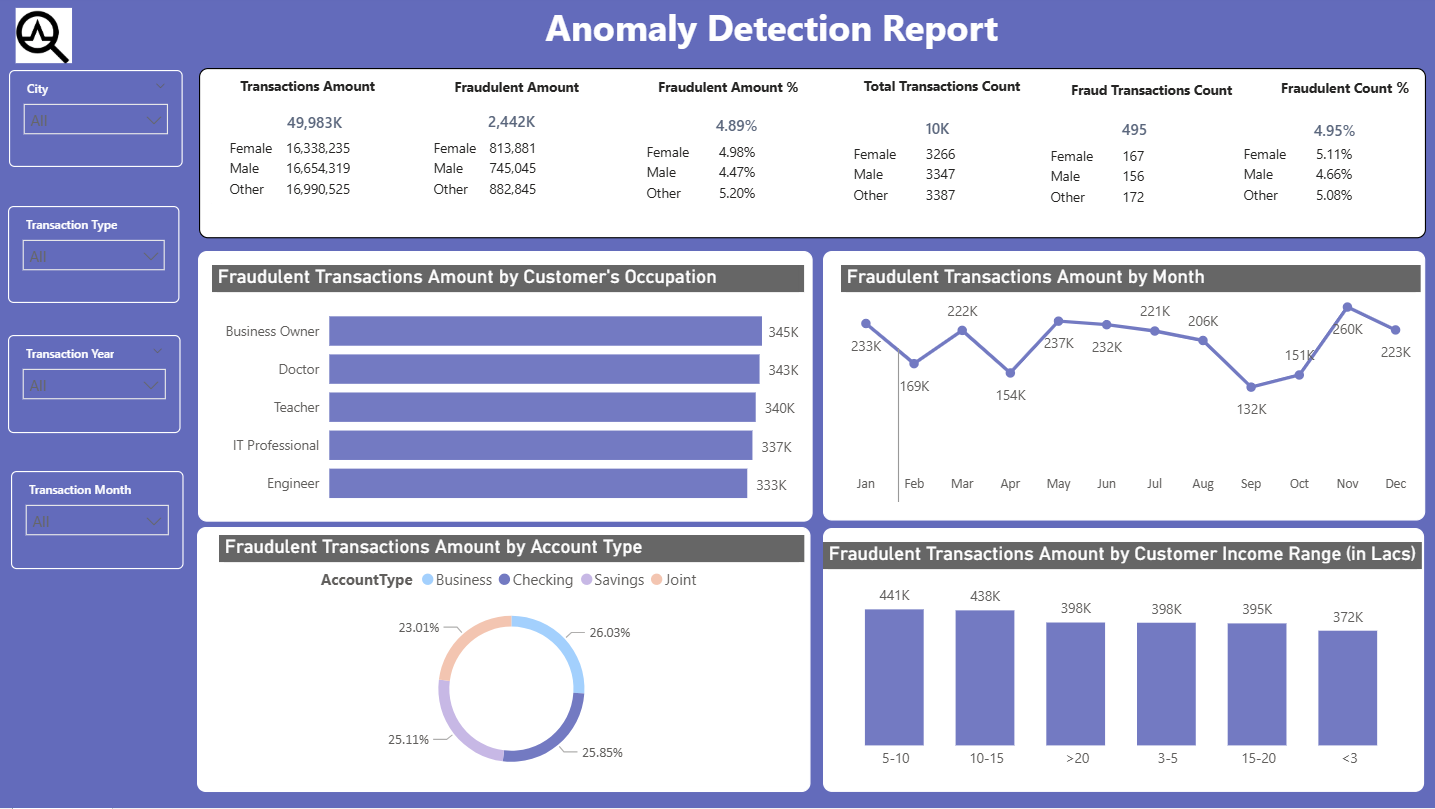

The page's visual inventory and layout, read from the dashboard file:
{"tool":"powerbi","page":{"name":"Dashboard","canvas":[1280,720],"ordinal":0},"visuals":[{"type":"shape","box":[181.5,63.9,1087.5,150.8],"z":0},{"type":"tableEx","fields":{"Values":["Banking Transactions  Data.CustomerGender","Banking Transactions  Data.Fraudulent Transactions Count"]},"box":[925.5,99,168.1,106.9],"z":1000},{"type":"tableEx","fields":{"Values":["Banking Transactions  Data.CustomerGender","Banking Transactions  Data.Total Transactions Count"]},"box":[751.1,97.4,171.3,106.9],"z":2000},{"type":"tableEx","fields":{"Values":["Banking Transactions  Data.CustomerGender","Banking Transactions  Data.Fraudlent Transactions Amount"]},"box":[378.3,92,168.7,108.6],"z":3000},{"type":"tableEx","fields":{"Values":["Banking Transactions  Data.CustomerGender","Banking Transactions  Data.Total Transactions Amount"]},"box":[198.1,92,170,108.6],"z":4000},{"type":"tableEx","fields":{"Values":["Banking Transactions  Data.CustomerGender","Banking Transactions  Data.Total Transactions Amount"]},"box":[186.6,66.5,12,131],"z":5000},{"type":"shape","box":[180.7,226.3,545.3,240.4],"z":6000},{"type":"shape","box":[735.4,226.3,534.3,238.8],"z":7000},{"type":"shape","box":[180.3,470.9,544,234.7],"z":8000},{"type":"shape","box":[735.4,471.4,532.7,234.1],"z":9000},{"type":"card","title":"Total Transactions Amount","fields":{"Values":["Banking Transactions  Data.Total Transactions Amount"]},"box":[199.5,84.2,169.4,59.4],"z":10000},{"type":"card","title":"Total Transactions Amount","fields":{"Values":["Banking Transactions  Data.Fraudlent Transactions Amount"]},"box":[374.2,83.7,169.4,60.3],"z":11000},{"type":"card","title":"Total Transactions Amount","fields":{"Values":["Banking Transactions  Data.Total Transactions Amount"]},"box":[572.5,76.7,170,60.1],"z":12000},{"type":"card","title":"Total Transactions Amount","fields":{"Values":["Banking Transactions  Data.Total Transactions Count"]},"box":[751,89.6,171.1,60.3],"z":13000},{"type":"card","title":"Total Transactions Amount","fields":{"Values":["Banking Transactions  Data.Fraudulent Transactions Count"]},"box":[925.7,90.4,171.1,60.3],"z":14000},{"type":"tableEx","fields":{"Values":["Banking Transactions  Data.CustomerGender","Banking Transactions  Data.Fraudlent Amount %"]},"box":[567.4,95.8,168.7,107.3],"z":15000},{"type":"card","title":"Total Transactions Amount","fields":{"Values":["Banking Transactions  Data.Fraudlent Amount %"]},"box":[573.7,86.9,169.4,59.4],"z":16000},{"type":"tableEx","fields":{"Values":["Banking Transactions  Data.CustomerGender","Banking Transactions  Data.Fraudulent Count %"]},"box":[1096.8,97.4,168.1,108.4],"z":17000},{"type":"card","title":"Total Transactions Amount","fields":{"Values":["Banking Transactions  Data.Fraudulent Count %"]},"box":[1129.7,90.4,117.9,61.2],"z":18000},{"type":"textbox","box":[193.3,65.6,169.4,33.7],"z":19000},{"type":"textbox","box":[378.6,66.5,169.4,32.8],"z":20000},{"type":"textbox","box":[565.7,66.5,170.2,31],"z":21000},{"type":"textbox","box":[755.5,65.6,170.2,33.7],"z":22000},{"type":"textbox","box":[929.3,69.2,194.2,37.2],"z":23000},{"type":"textbox","box":[1129.7,67.4,136.6,31.9],"z":24000},{"type":"lineChart","title":"Fraudulent Transactions Amount by Month","fields":{"Y":["Banking Transactions  Data.Fraudulent Transactions Amount"],"Category":["Banking Transactions  Data.MonthNameShort"]},"box":[751.1,238.8,513.8,210.6],"z":25000},{"type":"donutChart","title":"Fraudulent Transactions Amount by Account Type","fields":{"Category":["Banking Transactions  Data.AccountType"],"Y":["Banking Transactions  Data.Fraudulent Transactions Amount"]},"box":[199.6,477.7,518.5,223.1],"z":26000},{"type":"clusteredColumnChart","title":"Fraudulent Transactions Amount by Customer Income Range (in Lacs)","fields":{"Y":["Banking Transactions  Data.Fraudulent Transactions Amount"],"Category":["Banking Transactions  Data.CustomerIncomeRange (in Lacs)"]},"box":[735.4,484,531.1,210.6],"z":27000},{"type":"clusteredBarChart","title":"Fraudulent Transactions Amount by Customer''s Occupation","fields":{"Category":["Banking Transactions  Data.CustomerOccupation"],"Y":["Banking Transactions  Data.Fraudulent Transactions Amount"]},"box":[193.3,238.8,524.8,226.3],"z":28000},{"type":"image","box":[14.5,3.6,60.3,63.9],"z":29000},{"type":"textbox","box":[111,0,1157.8,63.9],"z":30000},{"type":"slicer","fields":{"Values":["Banking Transactions  Data.Region_City"]},"box":[13,65.6,154.3,86],"z":31000},{"type":"slicer","fields":{"Values":["Banking Transactions  Data.TransactionType"]},"box":[12.7,186.2,152.4,86.4],"z":32000},{"type":"shape","box":[651.7,312.1,300.6,136.6],"z":33000},{"type":"slicer","fields":{"Values":["Banking Transactions  Data.TransactionYear"]},"box":[12.4,300.6,152.5,86.9],"z":34000},{"type":"slicer","fields":{"Values":["Banking Transactions  Data.MonthName "]},"box":[15.1,421.2,152.5,86.9],"z":35000}]}

Visuals, with their boxes in screenshot pixels (x1, y1, x2, y2), scaled from the page's 1280x720 canvas onto the 1435x809 screenshot:
shape: bbox=[203, 72, 1423, 241]
tableEx - Banking Transactions  Data.CustomerGender x Banking Transactions  Data.Fraudulent Transactions Count: bbox=[1038, 111, 1226, 231]
tableEx - Banking Transactions  Data.CustomerGender x Banking Transactions  Data.Total Transactions Count: bbox=[842, 109, 1034, 230]
tableEx - Banking Transactions  Data.CustomerGender x Banking Transactions  Data.Fraudlent Transactions Amount: bbox=[424, 103, 613, 225]
tableEx - Banking Transactions  Data.CustomerGender x Banking Transactions  Data.Total Transactions Amount: bbox=[222, 103, 413, 225]
tableEx - Banking Transactions  Data.CustomerGender x Banking Transactions  Data.Total Transactions Amount: bbox=[209, 75, 223, 222]
shape: bbox=[203, 254, 814, 524]
shape: bbox=[824, 254, 1423, 523]
shape: bbox=[202, 529, 812, 793]
shape: bbox=[824, 530, 1422, 793]
"Total Transactions Amount" card: bbox=[224, 95, 414, 161]
"Total Transactions Amount" card: bbox=[420, 94, 609, 162]
"Total Transactions Amount" card: bbox=[642, 86, 832, 154]
"Total Transactions Amount" card: bbox=[842, 101, 1034, 168]
"Total Transactions Amount" card: bbox=[1038, 102, 1230, 169]
tableEx - Banking Transactions  Data.CustomerGender x Banking Transactions  Data.Fraudlent Amount %: bbox=[636, 108, 825, 228]
"Total Transactions Amount" card: bbox=[643, 98, 833, 164]
tableEx - Banking Transactions  Data.CustomerGender x Banking Transactions  Data.Fraudulent Count %: bbox=[1230, 109, 1418, 231]
"Total Transactions Amount" card: bbox=[1266, 102, 1399, 170]
textbox: bbox=[217, 74, 407, 112]
textbox: bbox=[424, 75, 614, 112]
textbox: bbox=[634, 75, 825, 110]
textbox: bbox=[847, 74, 1038, 112]
textbox: bbox=[1042, 78, 1260, 120]
textbox: bbox=[1266, 76, 1420, 112]
"Fraudulent Transactions Amount by Month" lineChart: bbox=[842, 268, 1418, 505]
"Fraudulent Transactions Amount by Account Type" donutChart: bbox=[224, 537, 805, 787]
"Fraudulent Transactions Amount by Customer Income Range (in Lacs)" clusteredColumnChart: bbox=[824, 544, 1420, 780]
"Fraudulent Transactions Amount by Customer''s Occupation" clusteredBarChart: bbox=[217, 268, 805, 523]
image: bbox=[16, 4, 84, 76]
textbox: bbox=[124, 0, 1422, 72]
slicer - Banking Transactions  Data.Region_City: bbox=[15, 74, 188, 170]
slicer - Banking Transactions  Data.TransactionType: bbox=[14, 209, 185, 306]
shape: bbox=[731, 351, 1068, 504]
slicer - Banking Transactions  Data.TransactionYear: bbox=[14, 338, 185, 435]
slicer - Banking Transactions  Data.MonthName : bbox=[17, 473, 188, 571]
